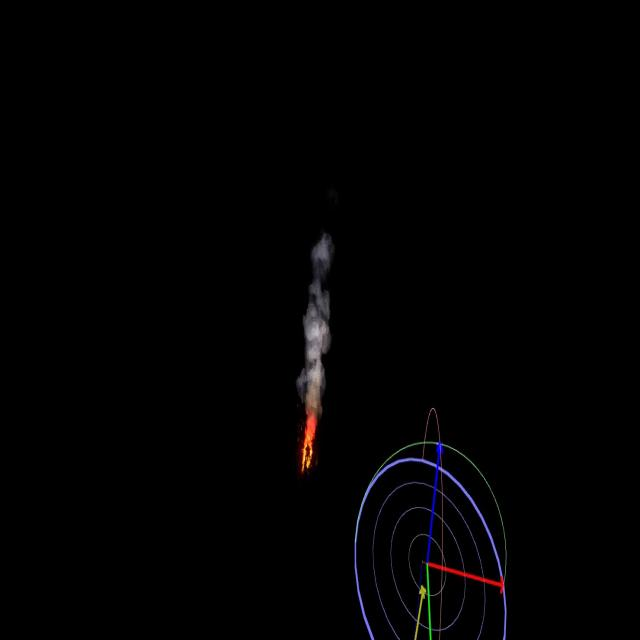fire: (301, 404, 315, 472)
smoke: (296, 231, 336, 416)
